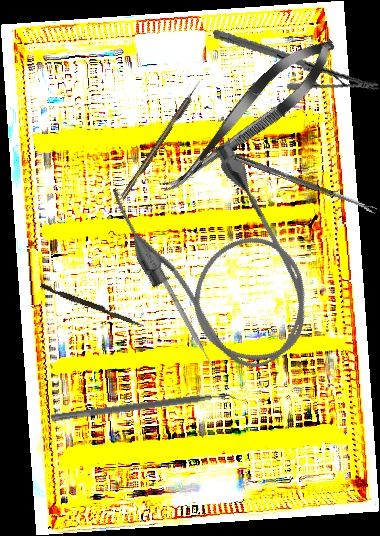Cannula: (100, 127, 336, 394)
Hook Surgical: (118, 79, 205, 201)
Micro Scissor: (151, 25, 347, 209)
Needle Holder: (212, 1, 380, 120)
Pusher: (141, 242, 221, 379), (39, 283, 146, 328)
Spatula Surgical: (50, 388, 239, 430)
Surgical Spoon: (233, 154, 378, 215)
